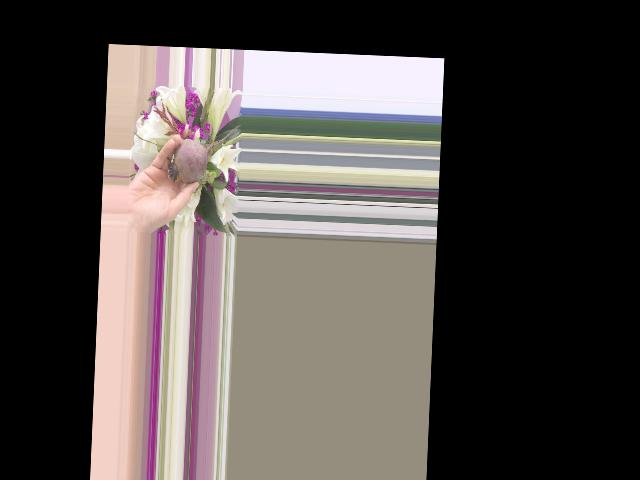beet: (167, 121, 239, 185)
